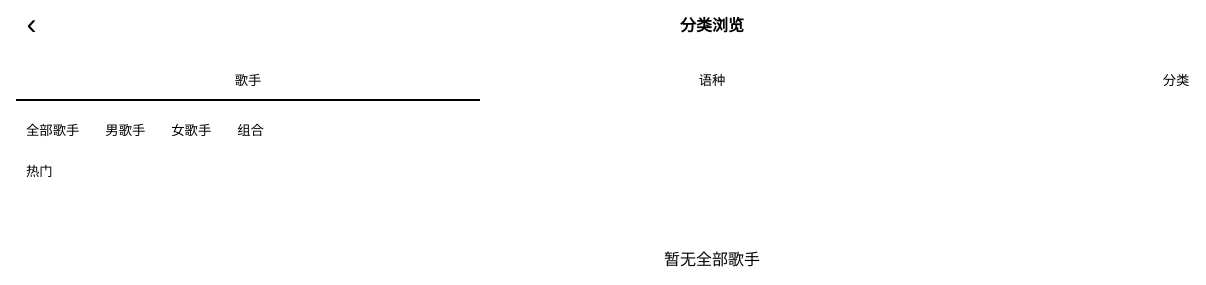
Test case: CategoryBrowseView › shows the selected gender empty state and sends the gender to both artist requests
Click the button "女歌手" at (191, 130), box [161,114,221,145]
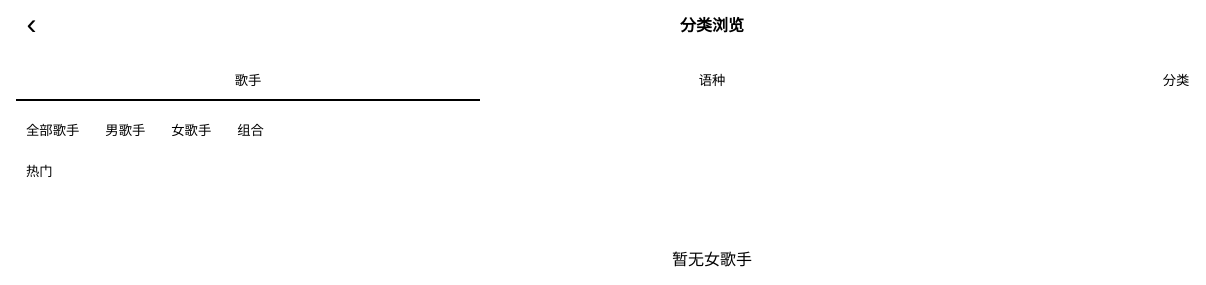
Expected: the text "暂无女歌手" is shown, [672,251,752,268]
